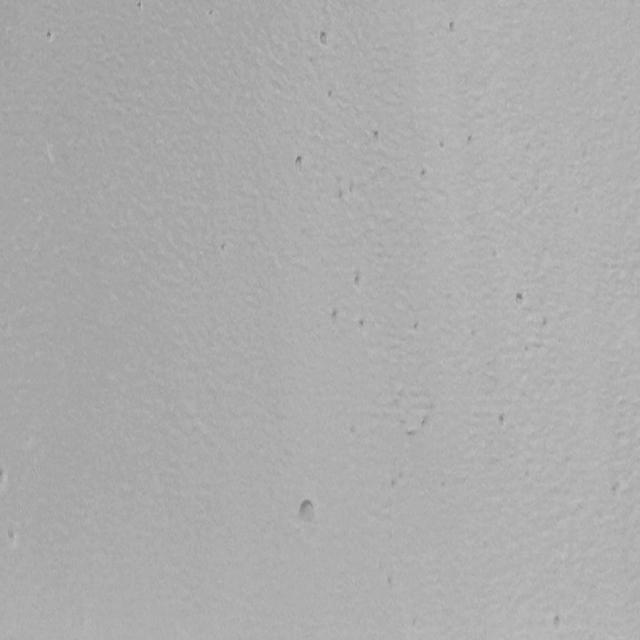pin holes: (295, 496, 320, 526), (313, 28, 333, 50), (493, 408, 513, 429), (350, 269, 369, 291), (408, 316, 426, 336), (293, 154, 310, 174), (328, 306, 345, 326), (0, 465, 12, 491), (512, 290, 528, 309), (419, 413, 434, 432), (551, 613, 565, 632), (417, 165, 432, 182), (404, 426, 418, 443), (7, 530, 20, 548), (358, 315, 372, 331), (446, 18, 460, 34), (371, 128, 384, 144), (386, 475, 398, 492), (44, 28, 57, 43), (133, 0, 146, 14)
